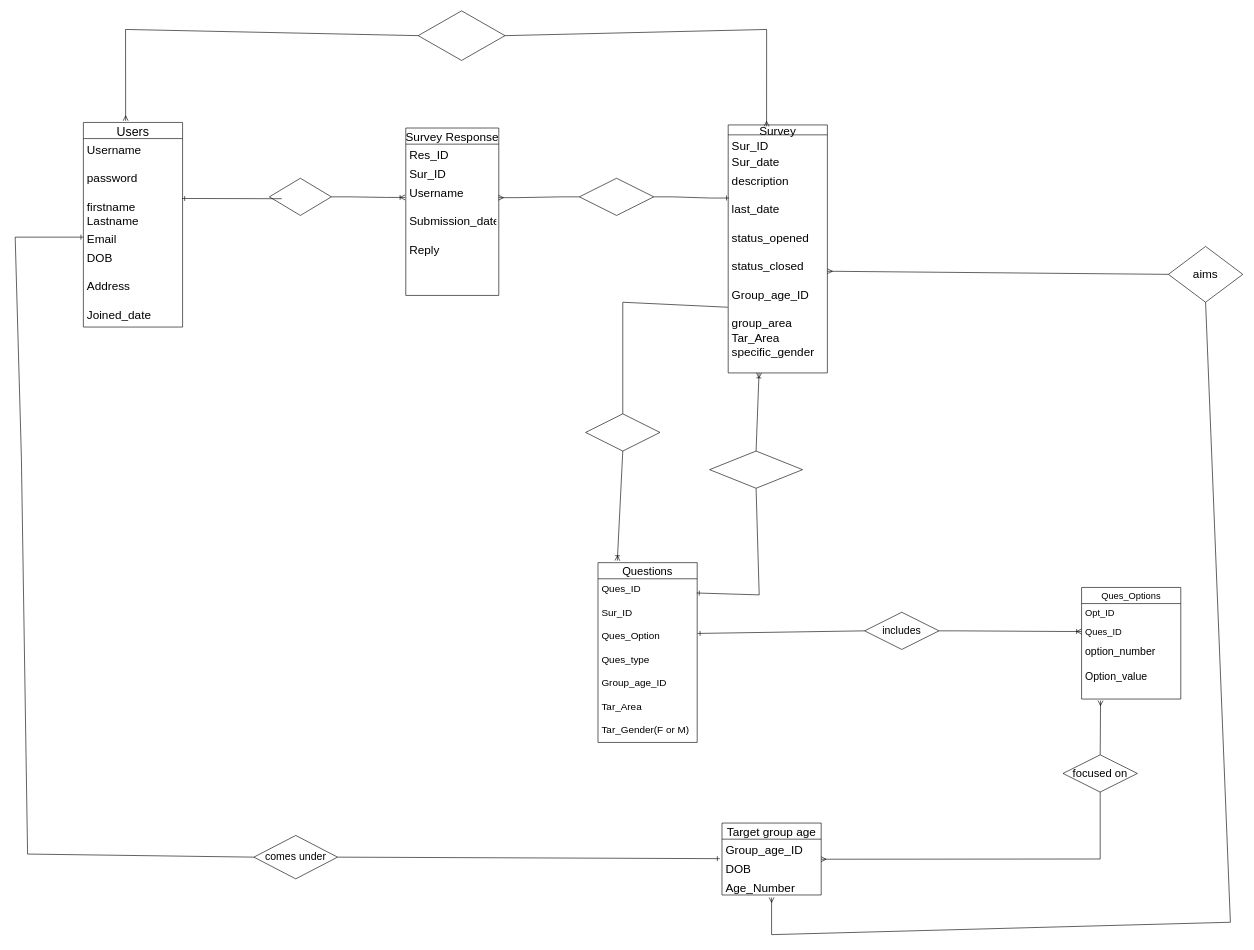
Image size: 1254x950. Some labels were removed from this diagram. The shapes that lost their labels are listed below. From the top down, each one's centre as x and y in pixels, then its label:
(461,35): participates
(300,196): delivers
(616,196): tracks
(622,432): have
(756,469): solutions
